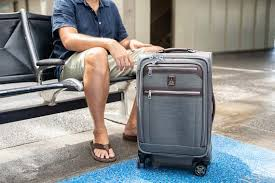suitcase: (135, 47, 218, 177)
